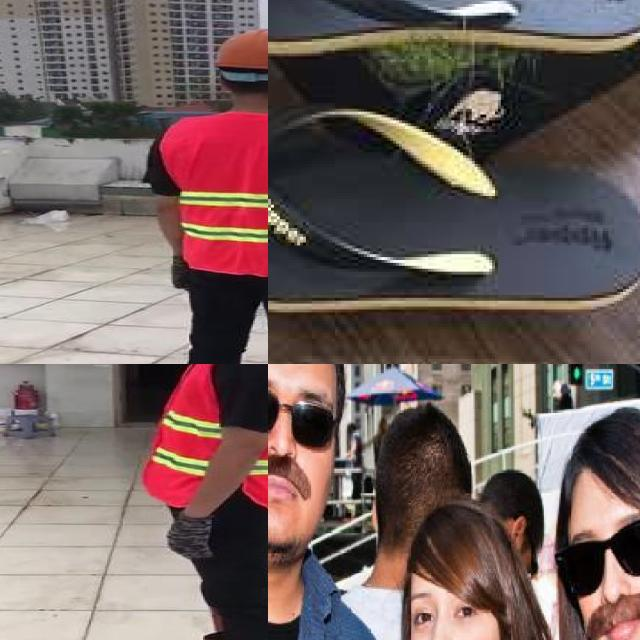Sandals: (268, 0, 640, 364)
face_nomask: (268, 367, 335, 518), (566, 511, 640, 640), (405, 589, 500, 640)
glasses: (550, 515, 640, 599), (268, 381, 342, 450)
hand_glove: (168, 512, 214, 560)
head_helmet: (205, 25, 268, 77)
head_nohelmet: (406, 510, 506, 585), (553, 419, 640, 493), (382, 402, 471, 462)
person: (146, 22, 268, 364), (123, 364, 268, 640), (268, 364, 394, 640), (380, 501, 571, 640)
vest: (146, 364, 268, 510), (167, 112, 268, 277)
